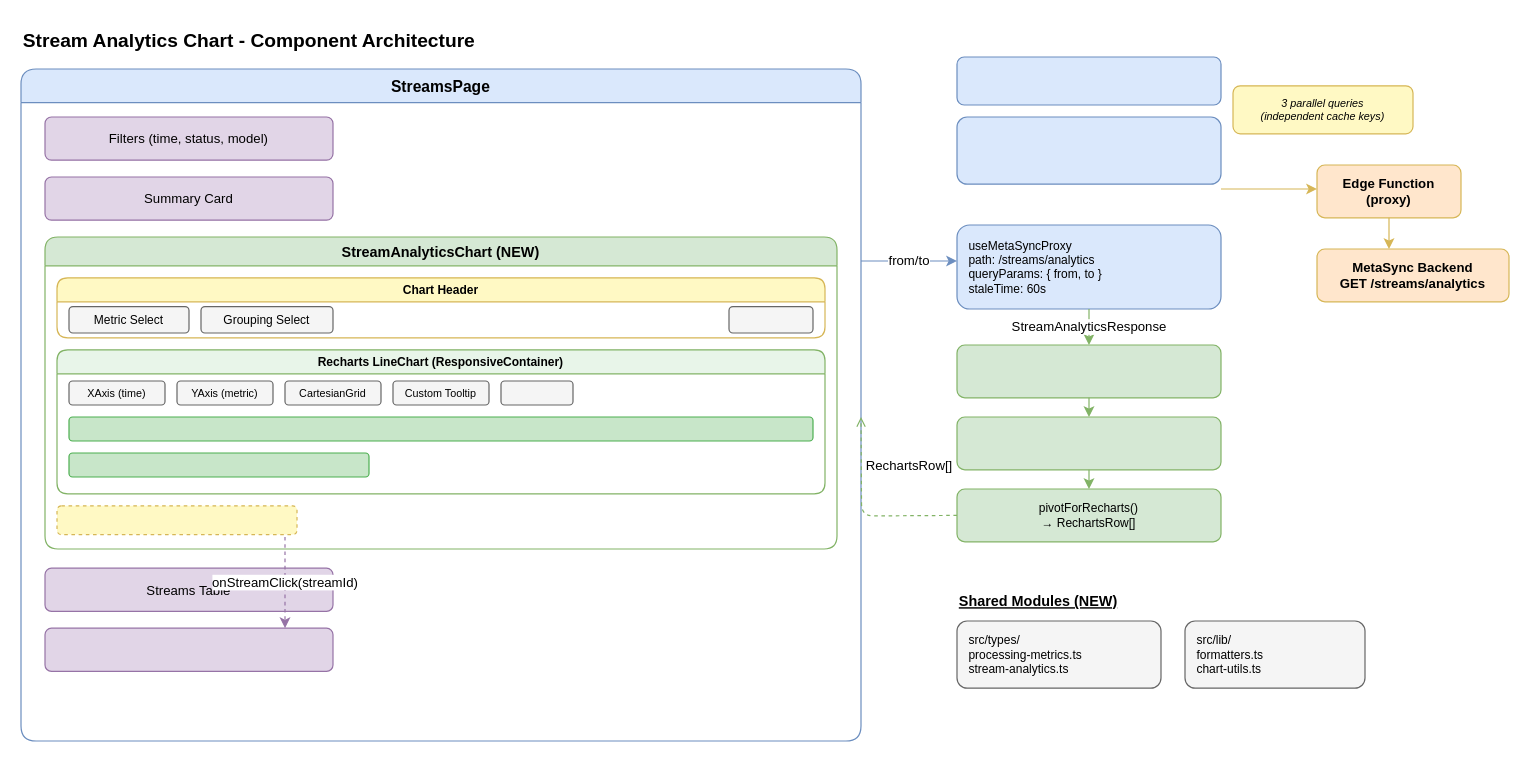
The diagram is 1530 pixels wide and 762 high, and some of its shapes have lost their labels. The centre of each missing label's shape, as x and y in pixels:
"activeDot (onClick → onStreamClick)" goes at point (218, 464).
"downsampleIfNeeded() (threshold: 2000, target: 500)" goes at point (1088, 443).
"Downsampling Notice (conditional)" goes at point (176, 520).
"Expand Toggle" goes at point (770, 319).
"Legend" goes at point (536, 392).
"Line x N (per group)" goes at point (440, 428).
"StreamDetailModal" goes at point (188, 649).
"transformToChartData() (metric, grouping)" goes at point (1088, 371).
"useMetaSyncProxy path: /stream queryParams: { from, to }" goes at point (1088, 150).
"useMetaSyncProxy path: /stream/summary" goes at point (1088, 80).
